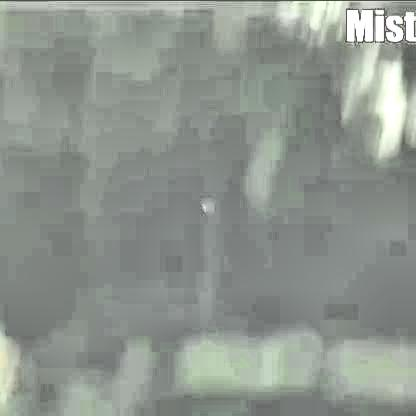golfball: (199, 198, 215, 211)
